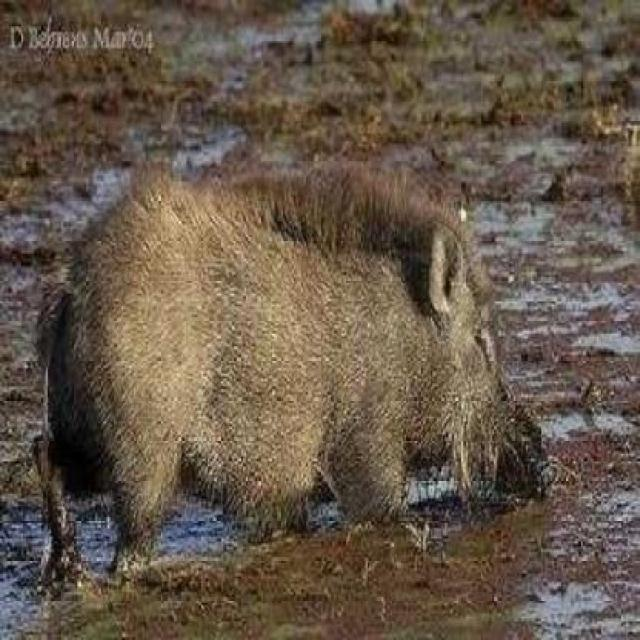pig: (45, 111, 576, 616)
